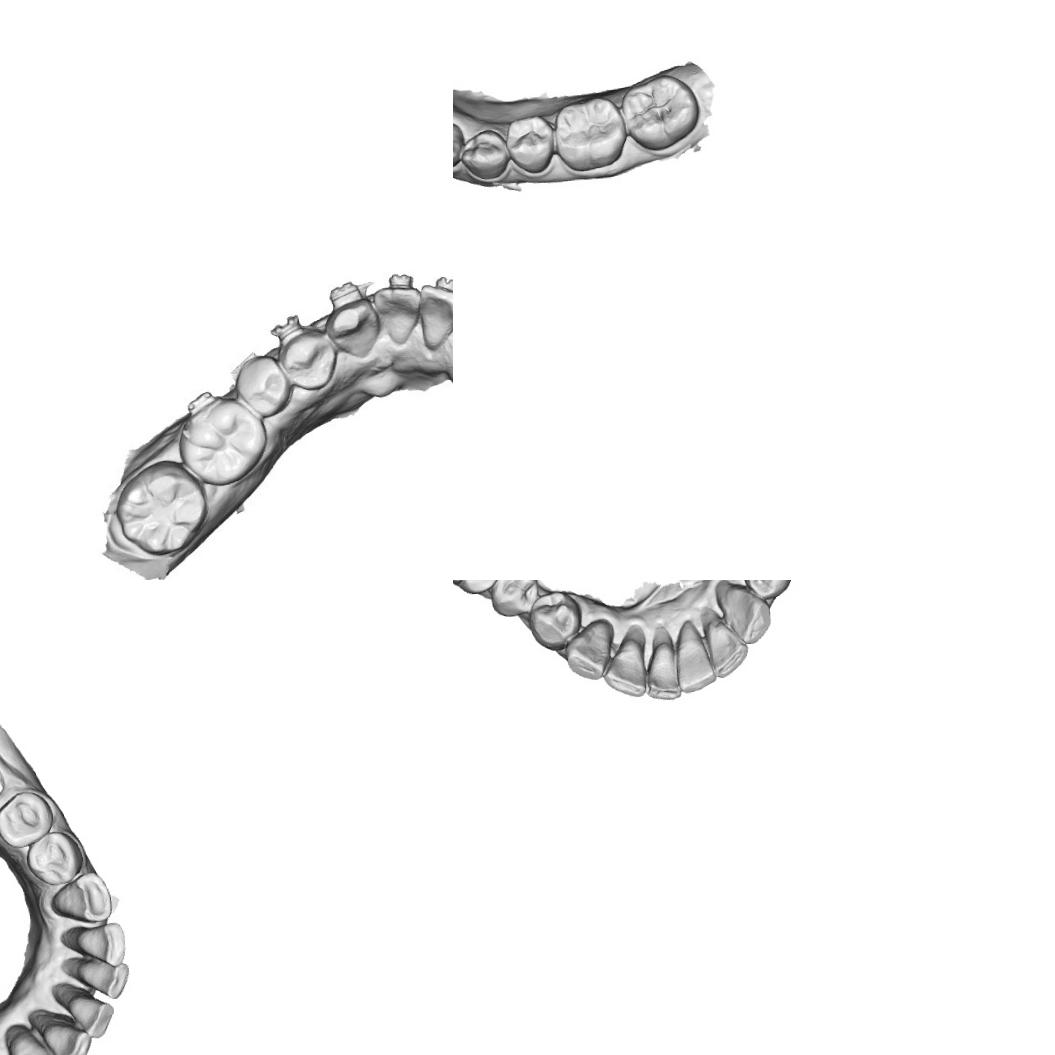canine: (50, 867, 114, 927), (718, 582, 774, 647), (324, 296, 380, 360), (560, 616, 616, 680), (8, 1028, 67, 1055), (453, 120, 466, 175)
incisor: (408, 281, 453, 355), (599, 634, 648, 700), (702, 616, 750, 680), (67, 919, 128, 968), (70, 956, 132, 1003), (376, 284, 422, 346), (62, 988, 115, 1041), (672, 634, 717, 694), (642, 638, 682, 702), (41, 1021, 93, 1055)
molar: (108, 457, 212, 560), (168, 396, 273, 490), (618, 72, 701, 152), (551, 95, 628, 172)
premolar: (277, 328, 338, 396), (524, 587, 584, 652), (235, 352, 291, 418), (503, 112, 556, 176), (24, 830, 82, 888), (0, 788, 53, 847), (458, 126, 512, 183), (487, 580, 541, 618), (739, 580, 794, 602)
